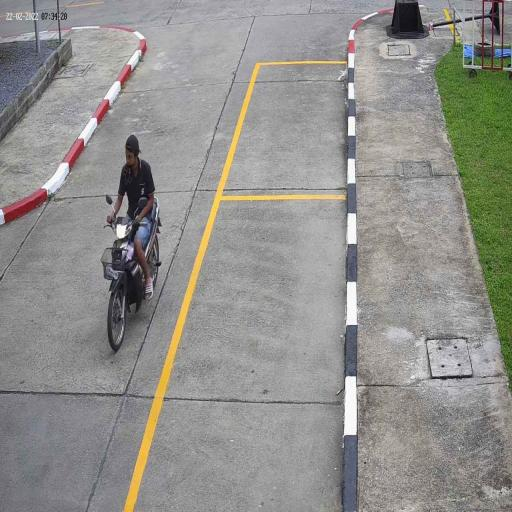motorcycle: (102, 216, 162, 353)
